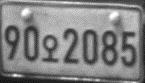0: (22, 24, 39, 61), (82, 28, 99, 65)
2: (62, 27, 79, 64)
5: (120, 30, 136, 68)
8: (101, 29, 118, 66)
9: (3, 24, 21, 61)
오: (41, 33, 60, 62)
